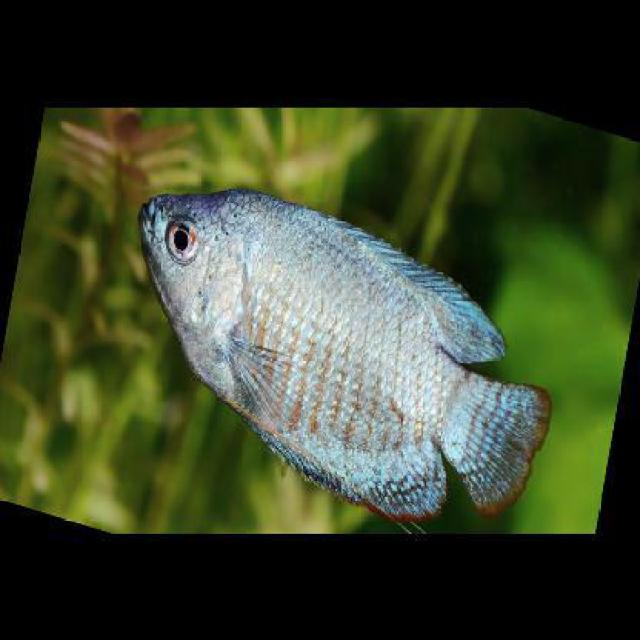Gourami: (138, 187, 554, 524)
